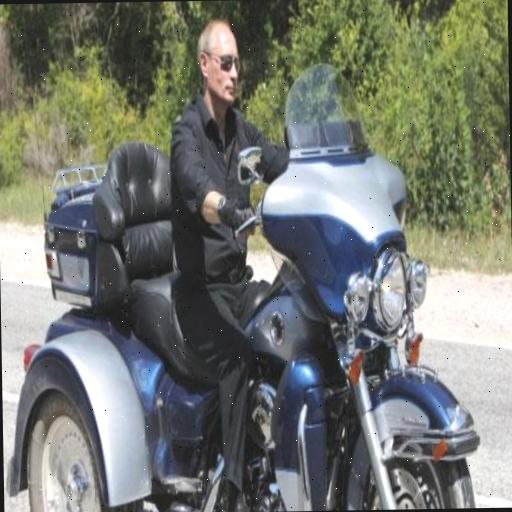no helmet: (137, 7, 323, 512)
